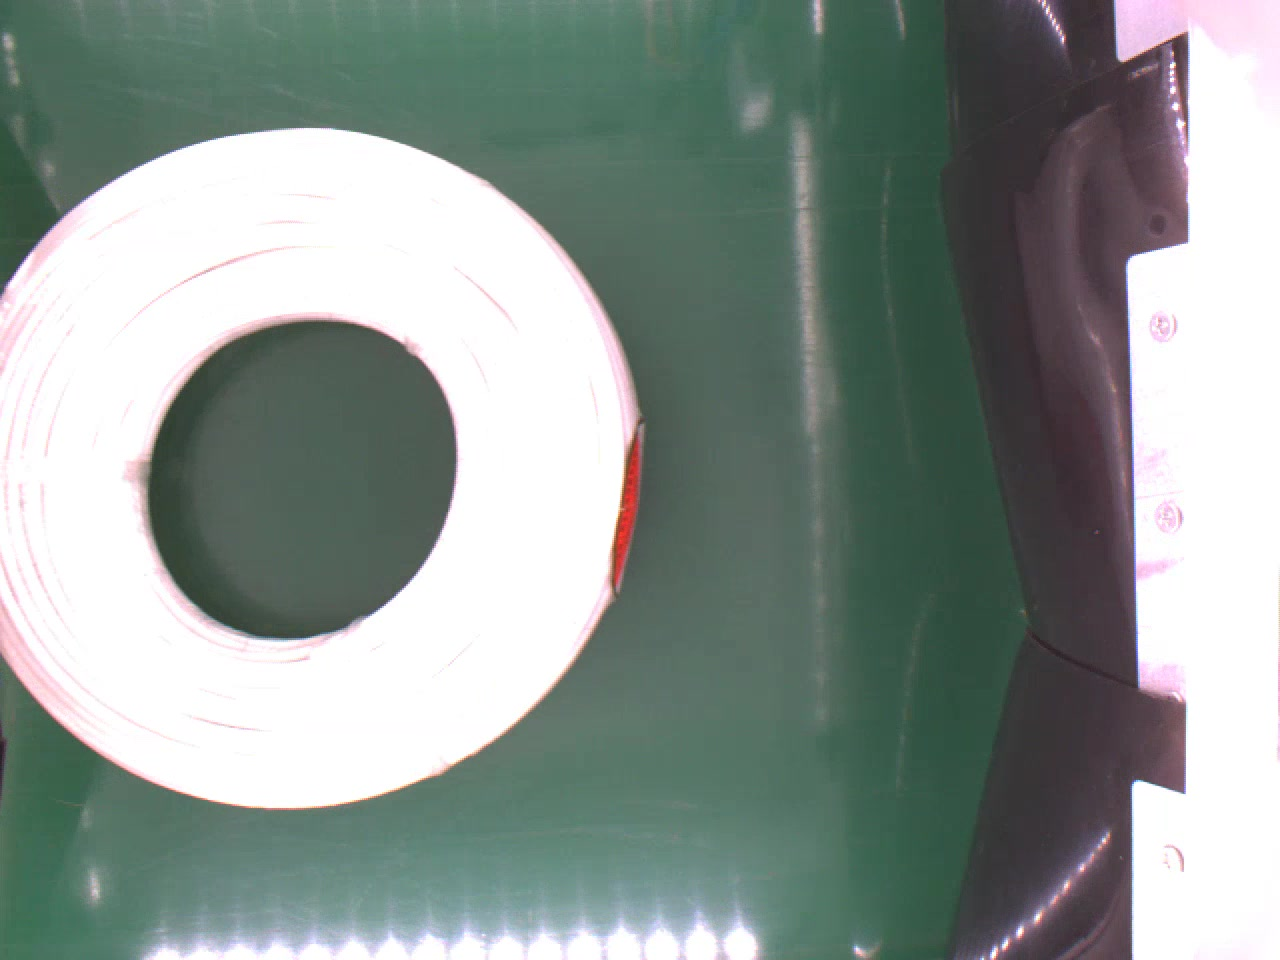white: (0, 123, 644, 812)
